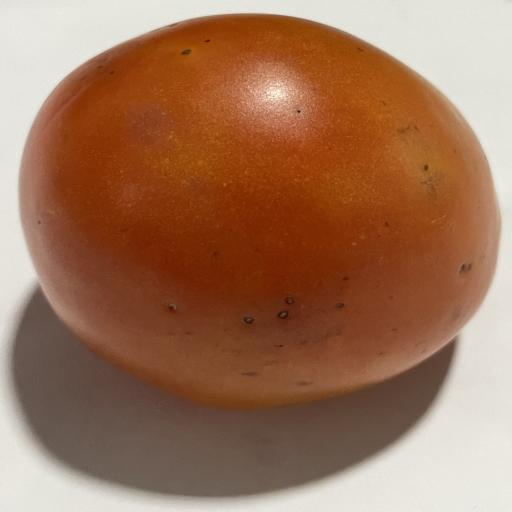ripe: (20, 14, 500, 408)
unripe: (19, 14, 500, 408)
